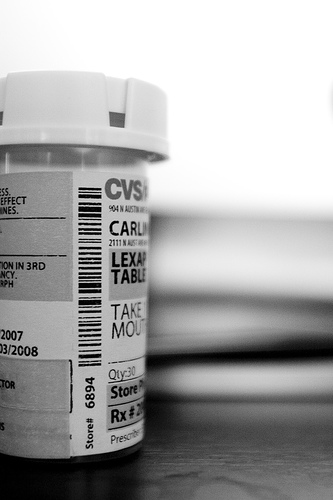pill bottle: (2, 68, 170, 472)
